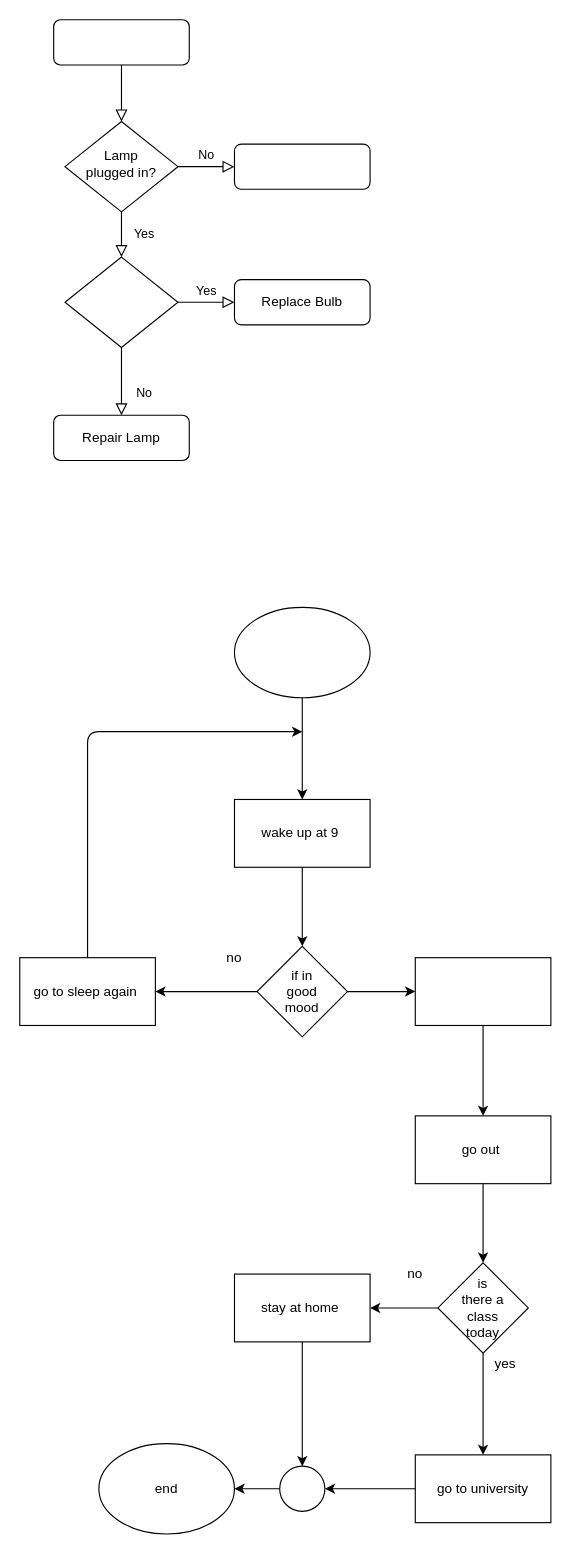
Some shapes in this 571 by 1554 pixel diagram are drawn without their labels. Each missing label, with the centre of its shape:
"Bulb burned out?" goes at (x=121, y=301).
"drink coffe" goes at (x=482, y=991).
"Lamp doesn't work" goes at (x=121, y=42).
"Plug in lamp" goes at (x=301, y=166).
"start" goes at (x=301, y=652).
